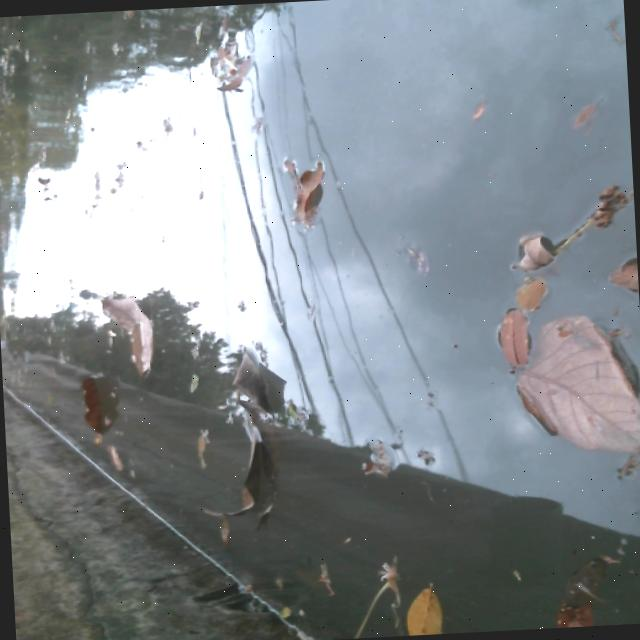Big-leaf: (518, 317, 640, 468), (95, 287, 170, 382), (225, 408, 276, 526), (550, 182, 621, 252), (548, 556, 614, 628), (228, 345, 278, 412), (75, 371, 110, 445)
Small-leaf: (279, 156, 339, 230), (344, 565, 403, 639), (492, 309, 535, 365), (600, 248, 640, 304), (404, 585, 445, 636), (517, 228, 555, 280), (360, 430, 398, 482), (509, 278, 551, 319), (404, 237, 436, 280), (569, 103, 604, 137), (211, 516, 245, 551), (225, 55, 254, 95), (211, 22, 233, 68), (35, 171, 59, 212), (102, 439, 131, 472), (192, 429, 215, 468), (467, 95, 495, 123), (188, 20, 208, 53)
